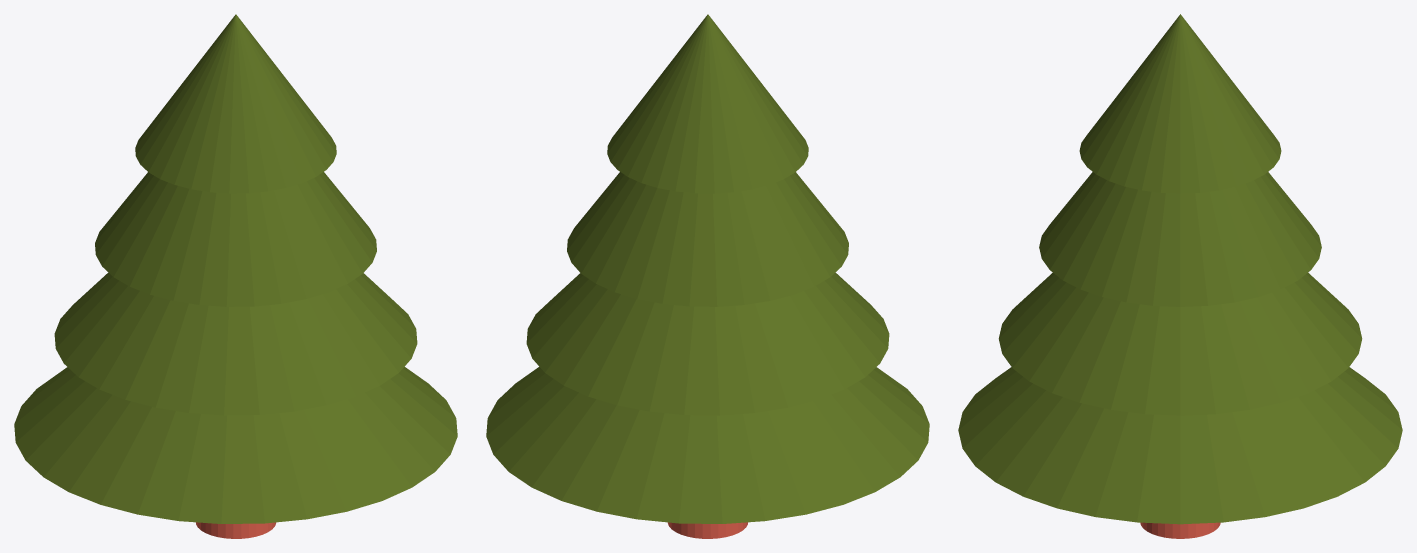
Rendered from tree4.obj.
3 renders of one model, left to right at view 1: azimuth 30°, elevation 25°; view 2: azimuth 150°, elevation 25°; view 3: azimuth 270°, elevation 25°, orthographic.
Parts seen in each view (by area): view 1: Cone.003, Cone.002, Cone.001, Cone, Circle; view 2: Cone.003, Cone.002, Cone.001, Cone, Circle; view 3: Cone.003, Cone.002, Cone.001, Cone, Circle.
Part boxes in pixels (x1,y1,x2,y2): Cone.003: [14, 366, 457, 523]; Cone.002: [54, 272, 417, 415]; Cone.001: [95, 172, 376, 306]; Cone: [135, 14, 336, 193]; Circle: [196, 522, 276, 538]; Cone.003: [486, 366, 929, 523]; Cone.002: [526, 272, 889, 415]; Cone.001: [567, 172, 848, 306]; Cone: [607, 14, 808, 193]; Circle: [667, 522, 747, 538]; Cone.003: [958, 367, 1402, 524]; Cone.002: [998, 273, 1362, 415]; Cone.001: [1039, 172, 1321, 306]; Cone: [1079, 14, 1281, 193]; Circle: [1140, 522, 1220, 538].
Bounding box in the file's own units: 2.2 × 2.77 × 2.2.
